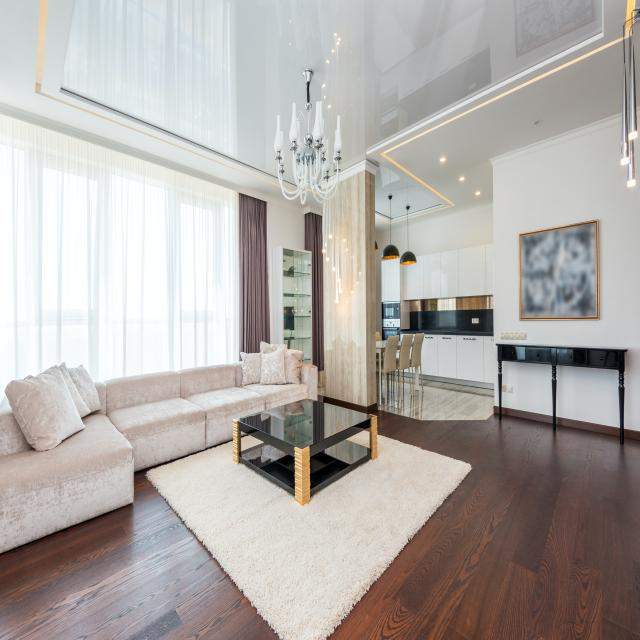floor: (326, 373, 640, 640), (0, 443, 283, 640)
wall: (493, 117, 640, 431), (518, 219, 599, 320), (268, 202, 305, 344), (403, 243, 493, 300), (408, 203, 493, 257), (556, 365, 620, 428), (501, 361, 553, 417), (375, 233, 390, 341), (390, 225, 408, 260), (456, 296, 490, 310), (424, 299, 438, 311)
